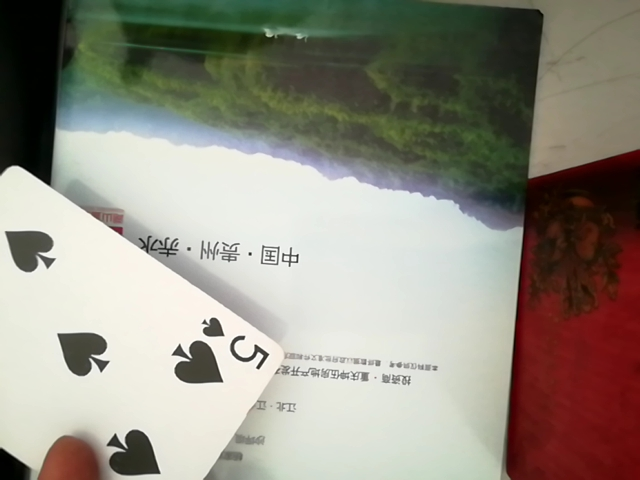ht 5: (0, 152, 292, 474)
